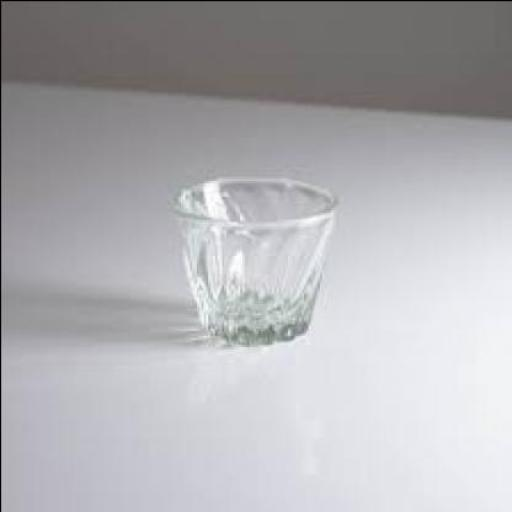glass: (175, 173, 339, 341)
